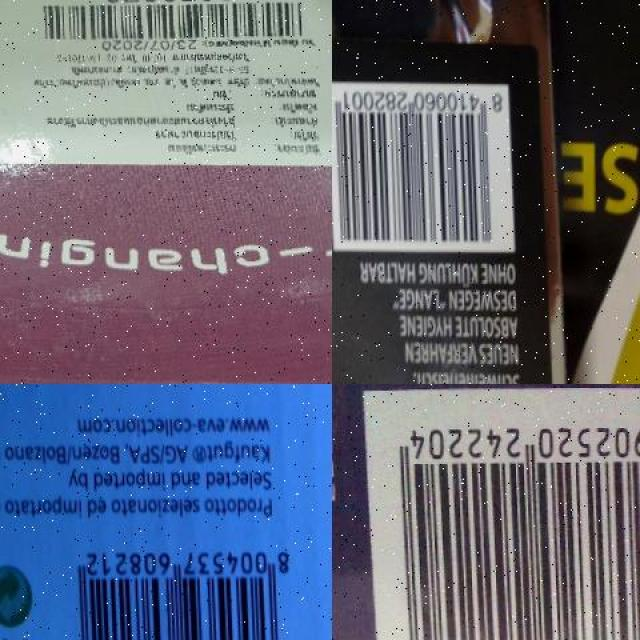Barcode: (370, 389, 640, 639), (332, 80, 511, 251), (59, 540, 298, 640), (25, 0, 318, 44)
